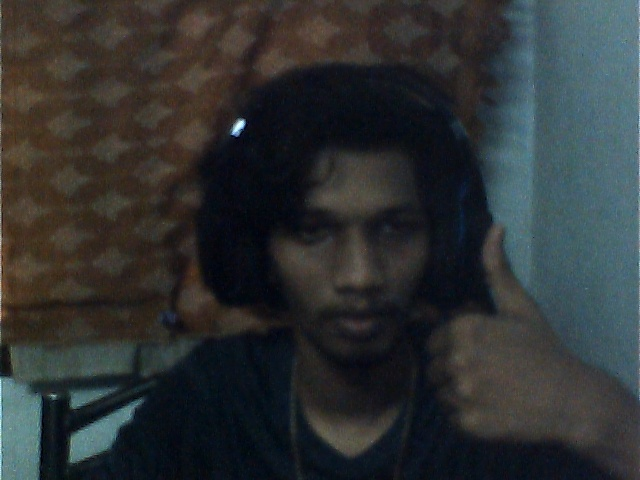ThumbsUp: (430, 223, 575, 442)
